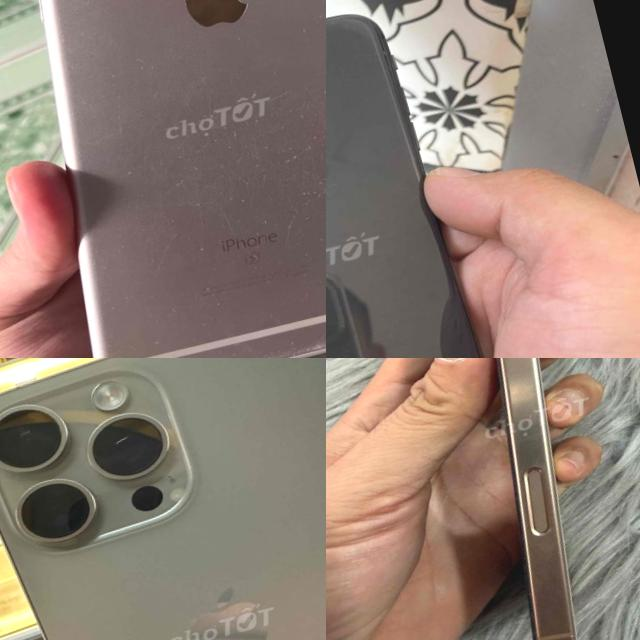scratch: (123, 114, 326, 286), (243, 277, 326, 358), (326, 42, 374, 124), (305, 17, 326, 140), (326, 8, 378, 46), (369, 42, 402, 95)
